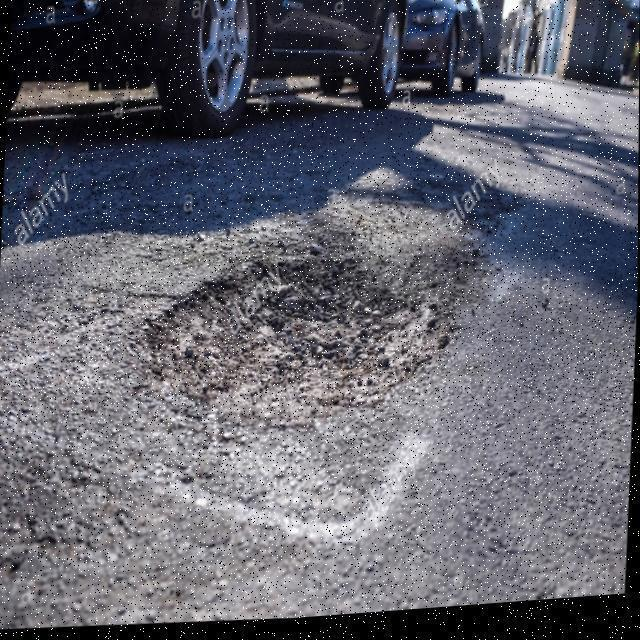Pothole: (122, 225, 495, 438)
